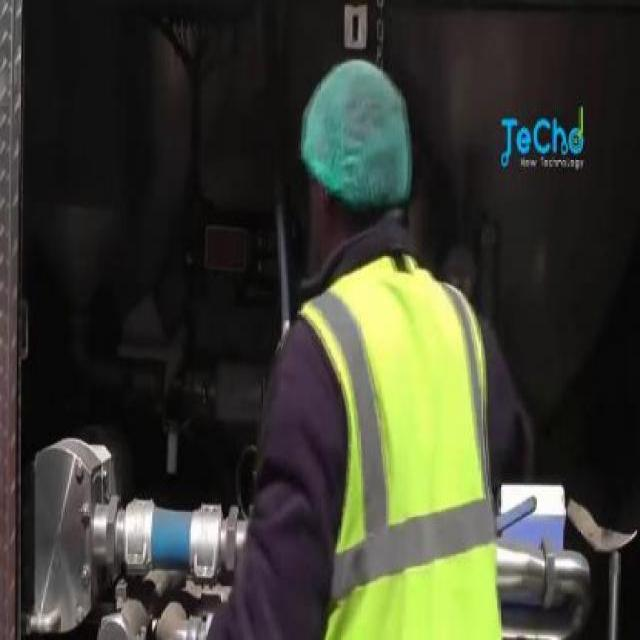hairnet: (306, 64, 411, 204)
